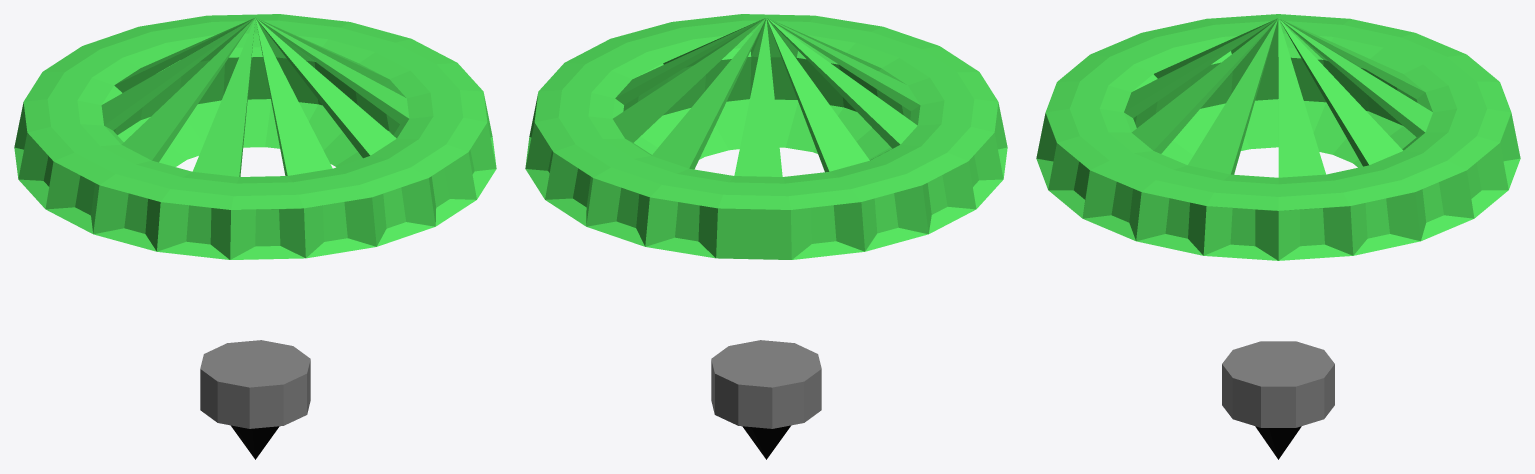
Rendered from StaminaVrcholbb.fbx.
3 renders of one model, left to right at view 1: azimuth 30°, elevation 25°; view 2: azimuth 150°, elevation 25°; view 3: azimuth 270°, elevation 25°, orthographic.
Visible parts, largest first — view 1: vršek, Válec.018, Kužel.024; view 2: vršek, Válec.018, Kužel.024; view 3: vršek, Válec.018, Kužel.024.
Boxes of the visible parts, x1,y1,x2,y2 form: vršek: [14, 14, 496, 259]; Válec.018: [200, 340, 310, 428]; Kužel.024: [230, 425, 279, 459]; vršek: [525, 14, 1007, 259]; Válec.018: [711, 340, 821, 428]; Kužel.024: [742, 425, 791, 459]; vršek: [1036, 14, 1520, 260]; Válec.018: [1222, 341, 1334, 427]; Kužel.024: [1255, 426, 1301, 459].
Bounding box in the file's own units: 5.23 × 5.23 × 5.27.
